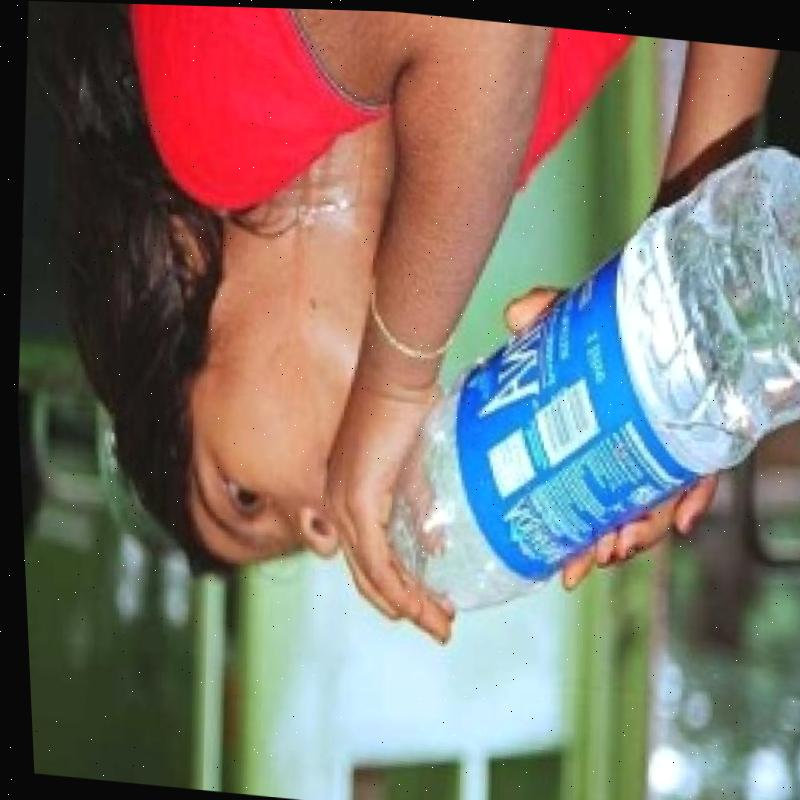botella: (358, 100, 800, 646)
